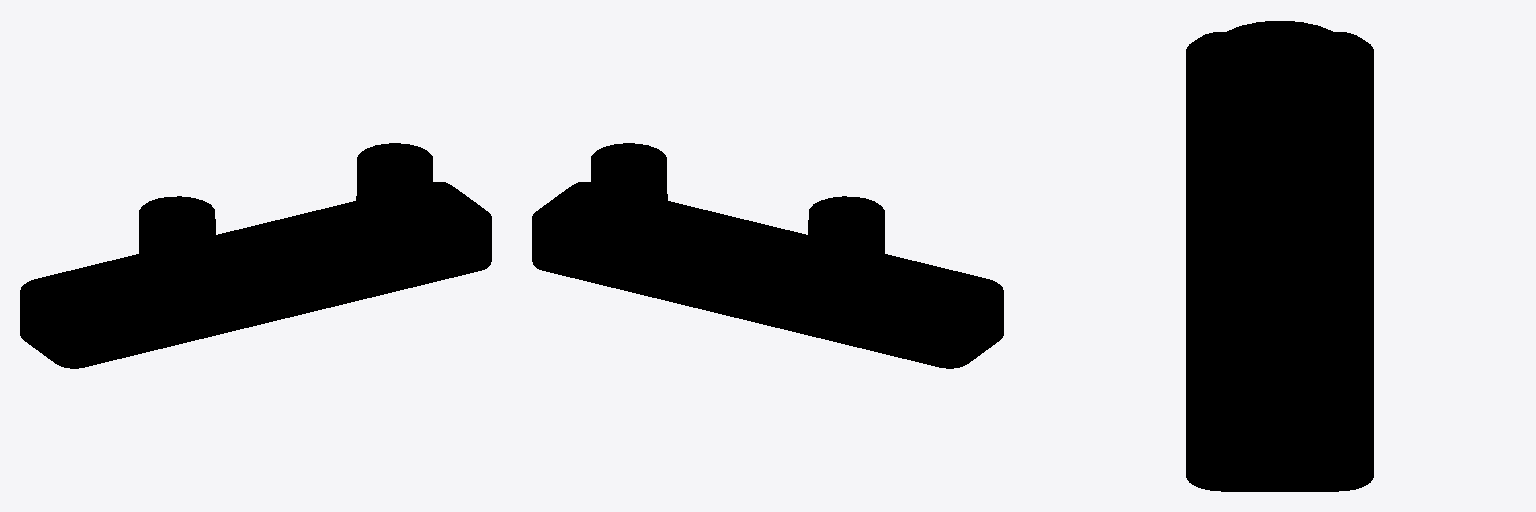
robot.urdf — zed_camera:
<?xml version="1.0"?>
<!--
Copyright (c) 2017, STEREOLABS.

All rights reserved.

THIS SOFTWARE IS PROVIDED BY THE COPYRIGHT HOLDERS AND CONTRIBUTORS
"AS IS" AND ANY EXPRESS OR IMPLIED WARRANTIES, INCLUDING, BUT NOT
LIMITED TO, THE IMPLIED WARRANTIES OF MERCHANTABILITY AND FITNESS FOR
A PARTICULAR PURPOSE ARE DISCLAIMED. IN NO EVENT SHALL THE COPYRIGHT
OWNER OR CONTRIBUTORS BE LIABLE FOR ANY DIRECT, INDIRECT, INCIDENTAL,
SPECIAL, EXEMPLARY, OR CONSEQUENTIAL DAMAGES (INCLUDING, BUT NOT
LIMITED TO, PROCUREMENT OF SUBSTITUTE GOODS OR SERVICES; LOSS OF USE,
DATA, OR PROFITS; OR BUSINESS INTERRUPTION) HOWEVER CAUSED AND ON ANY
THEORY OF LIABILITY, WHETHER IN CONTRACT, STRICT LIABILITY, OR TORT
(INCLUDING NEGLIGENCE OR OTHERWISE) ARISING IN ANY WAY OUT OF THE USE
OF THIS SOFTWARE, EVEN IF ADVISED OF THE POSSIBILITY OF SUCH DAMAGE.
-->
<robot name="zed_camera">

    <link name="left_optical">
    </link>
    
    <link name="zed_camera">
        <visual>
            <origin xyz="0 0 0" rpy="0 0 0"/>
            <geometry>
                <mesh filename="package://zed_wrapper/urdf/ZEDM.stl" />
            </geometry>
            <material name="light_grey">
                <color rgba="0 0 0 0.9"/>
            </material>
        </visual>
    </link>
    
    <link name="right_optical">    </link>

    <joint name="left_optical_joint" type="fixed">
        <parent link="zed_camera"/>
        <child link="left_optical"/>
        <origin xyz="0 0.00 0" rpy="0 0 0" />
    </joint>

    <joint name="right_optical_joint" type="fixed">
        <parent link="zed_camera"/>
        <child link="right_optical"/>
        <origin xyz="0.06 0 0" rpy="0 0 0" />
    </joint>
 
</robot>

--- Facts derived from the render (not from the file) ---
Views: 3 orthographic renders of the robot side by side, from view 1: azimuth 30°, elevation 25°; view 2: azimuth 150°, elevation 25°; view 3: azimuth 270°, elevation 25°.
Robot: zed_camera — 3 links, 2 joints (2 fixed); root link zed_camera; default pose: every joint at zero.
Links seen in each view (by area): view 1: zed_camera; view 2: zed_camera; view 3: zed_camera.
Link boxes in pixels (box(x1,y1,x2,y2)): zed_camera: box(20, 143, 491, 368); zed_camera: box(532, 143, 1003, 368); zed_camera: box(1186, 21, 1373, 491).
Bounding box of the posed robot: 0.1252 × 0.0266 × 0.0295 m (x, y, z).
Meshes: 1 distinct files referenced, 1 mesh visuals loaded (1 binary STL).
